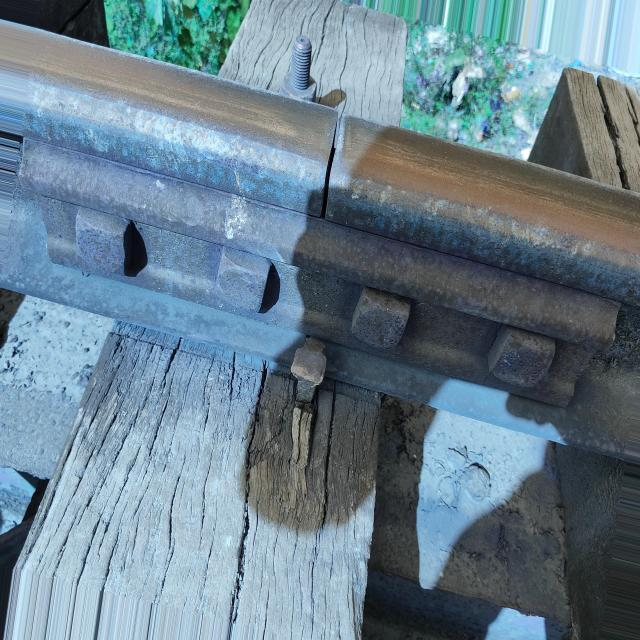Good Fasteners: (291, 338, 326, 385)
Good Joint: (15, 144, 623, 418)
